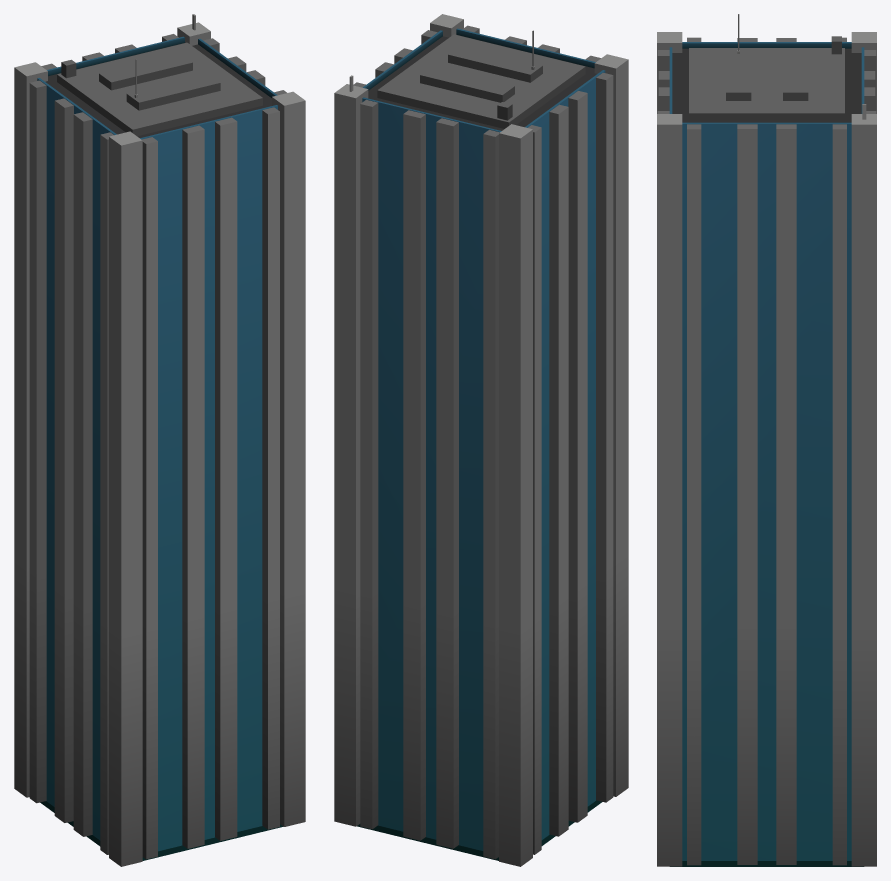
File: buildings-industrial-modernskyscraper_v7.glb
3 renders of one model, left to right at view 1: azimuth 30°, elevation 25°; view 2: azimuth 150°, elevation 25°; view 3: azimuth 270°, elevation 25°, orthographic. The views are drawn at different scales.
Parts seen in each view (by area): view 1: ModernSkyscraper_v7_base, ModernSkyscraper_v7_windowRefl; view 2: ModernSkyscraper_v7_base, ModernSkyscraper_v7_windowRefl; view 3: ModernSkyscraper_v7_base, ModernSkyscraper_v7_windowRefl.
Part boxes in pixels (left/top/right/bottom): ModernSkyscraper_v7_base: left=14, top=14, right=305, bottom=866; ModernSkyscraper_v7_windowRefl: left=37, top=36, right=283, bottom=860; ModernSkyscraper_v7_base: left=334, top=14, right=628, bottom=866; ModernSkyscraper_v7_windowRefl: left=357, top=28, right=605, bottom=860; ModernSkyscraper_v7_base: left=657, top=14, right=876, bottom=866; ModernSkyscraper_v7_windowRefl: left=669, top=42, right=864, bottom=866.
Size of the model in its own units: 20.98 by 83.78 by 21.06.
